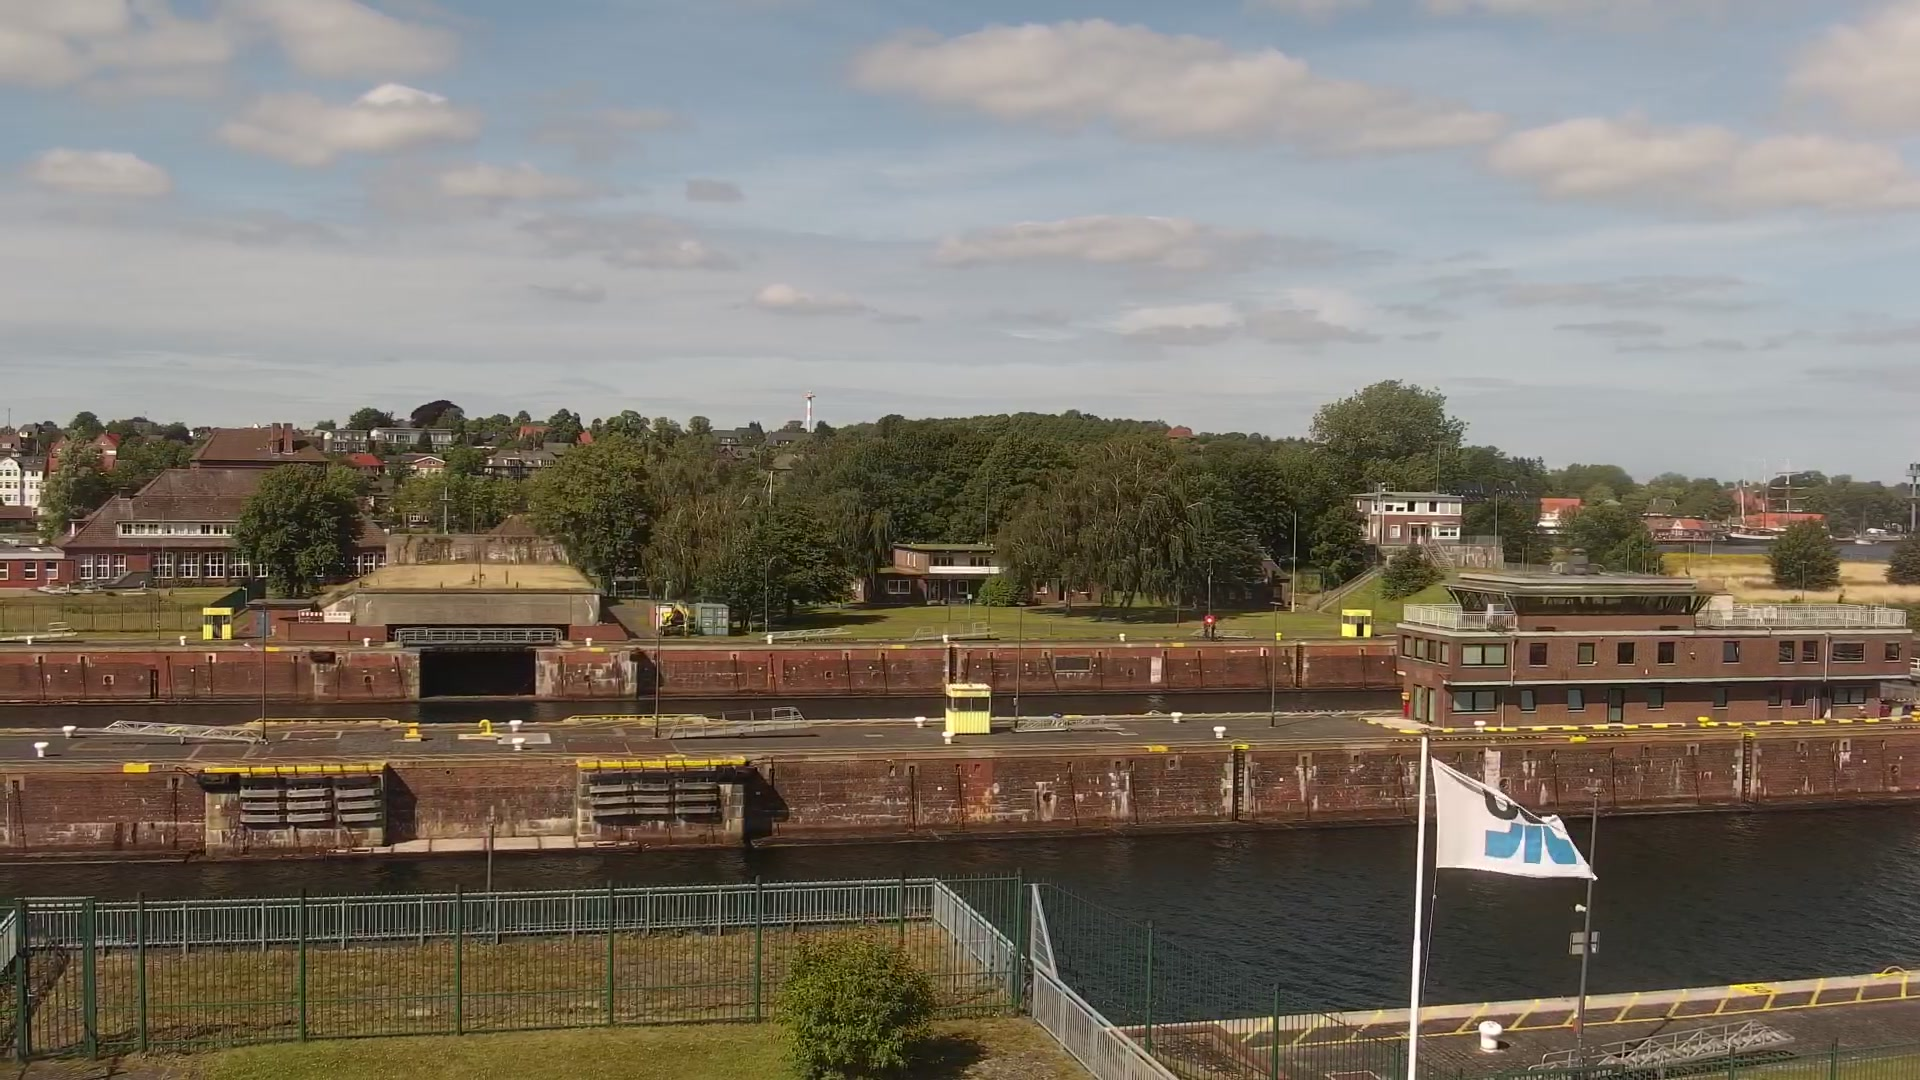land: (654, 601, 688, 636)
sea: (1726, 454, 1808, 545), (1853, 502, 1880, 545)
